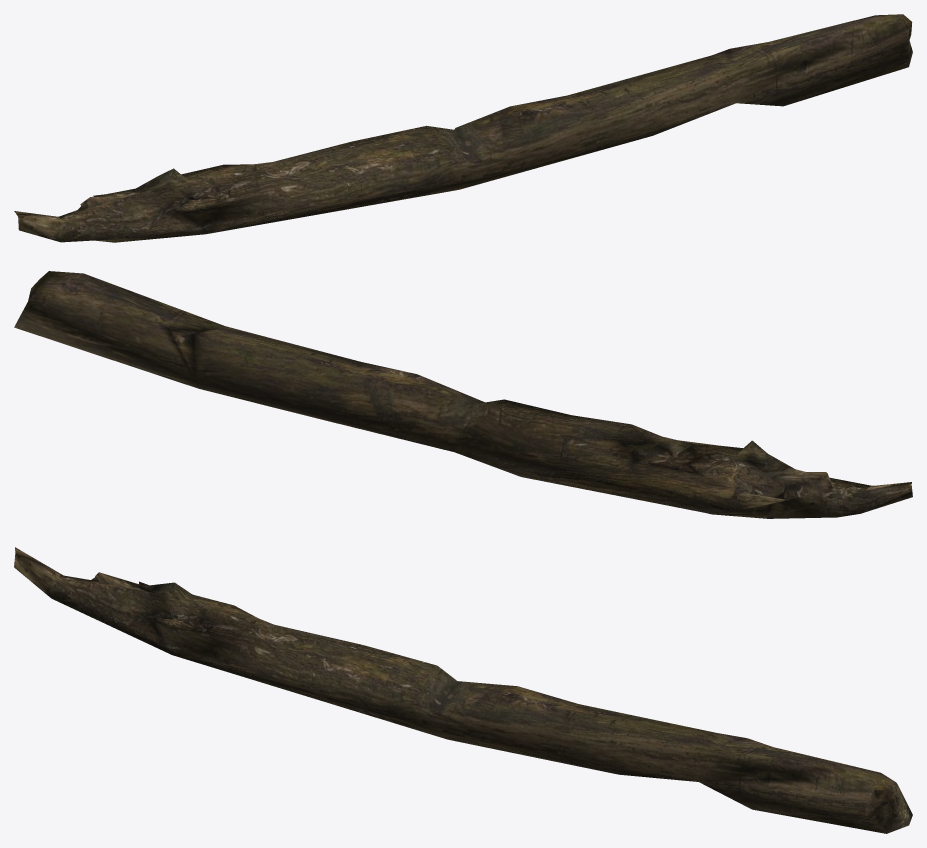
Rendered from dead_tree_trunk.glb.
3 renders of one model, top to bottom at view 1: azimuth 30°, elevation 25°; view 2: azimuth 150°, elevation 25°; view 3: azimuth 330°, elevation 25°, orthographic.
Parts seen in each view (by area): view 1: dead_tree_trunk; view 2: dead_tree_trunk; view 3: dead_tree_trunk.
Part boxes in pixels (x1=…): dead_tree_trunk: x1=14, y1=14, x2=912, y2=242; dead_tree_trunk: x1=14, y1=271, x2=912, y2=518; dead_tree_trunk: x1=14, y1=547, x2=912, y2=833.
Bounding box in the file's own units: 3.04 × 0.2765 × 0.2609.
1 material, 1 textured.
